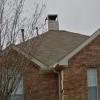Chimney: (38, 5, 63, 37)
